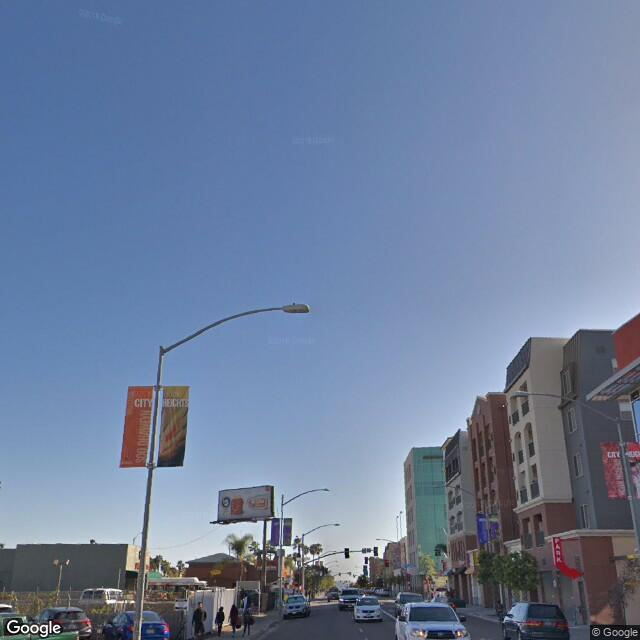light: (281, 302, 314, 316)
window: (520, 425, 534, 456)
